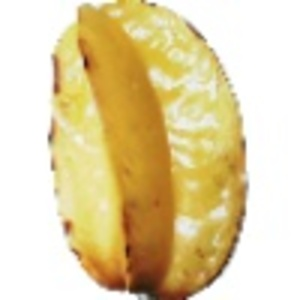carambola: (48, 1, 249, 300)
